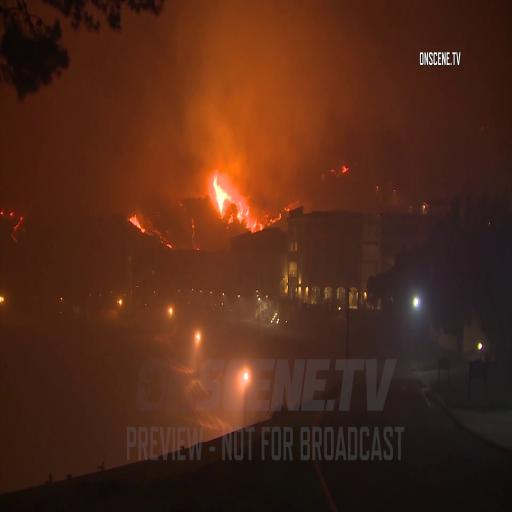fire: (212, 179, 230, 215)
